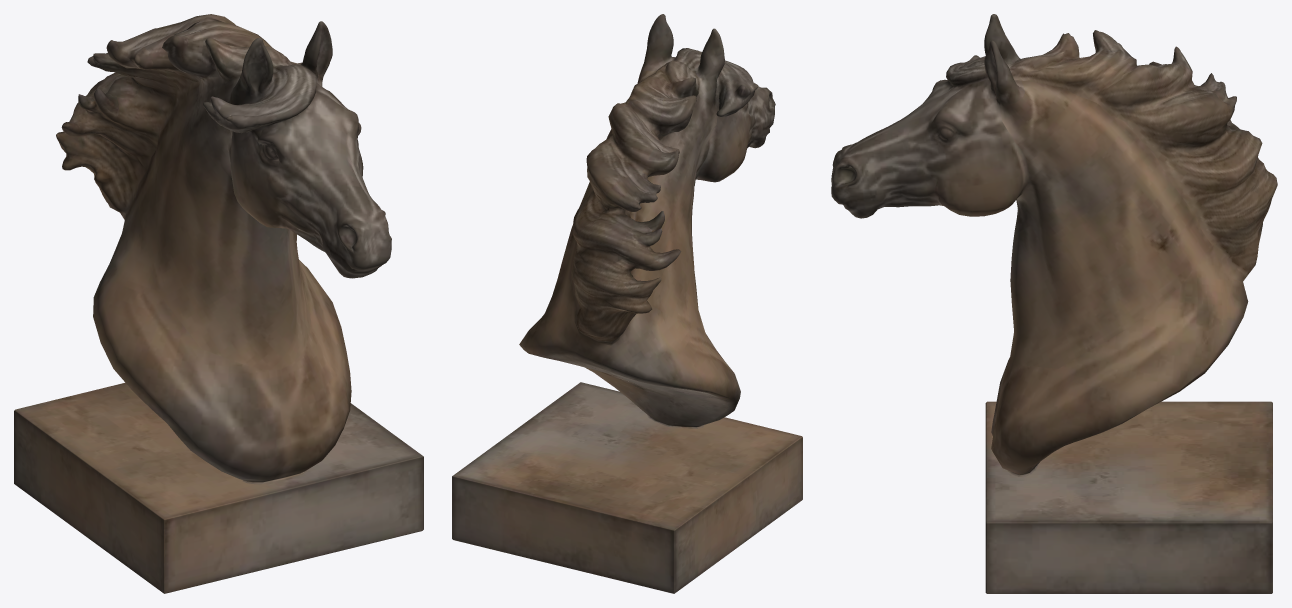
Rendered from ph-horse-head.glb.
3 renders of one model, left to right at view 1: azimuth 30°, elevation 25°; view 2: azimuth 150°, elevation 25°; view 3: azimuth 270°, elevation 25°, orthographic. The views are drawn at different scales.
Visible parts, largest first — view 1: horse_head; view 2: horse_head; view 3: horse_head.
Part boxes in pixels (<box>): horse_head: <box>14,14,423,593</box>; horse_head: <box>452,14,802,593</box>; horse_head: <box>831,14,1277,593</box>.
Size of the model in its own units: 0.1848 by 0.36 by 0.2873.
Materials: 1 (1 with a texture image).
